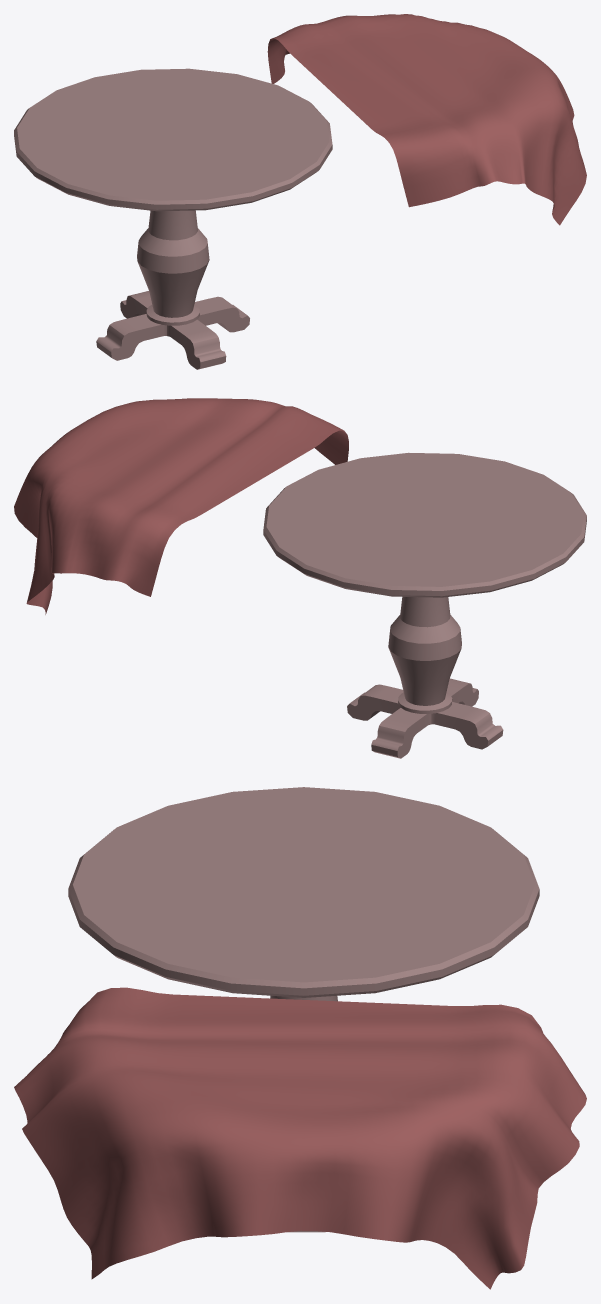
The model's file is mesh_tableround.fbx.
3 views of the same model, one above another, from view 1: azimuth 30°, elevation 25°; view 2: azimuth 150°, elevation 25°; view 3: azimuth 270°, elevation 25° (orthographic). The views are drawn at different scales.
Parts seen in each view (by area): view 1: table, polySurface17; view 2: table, polySurface17; view 3: polySurface17, table.
Part boxes in pixels (x1,y1,x2,y2): table: [14, 68, 332, 369]; polySurface17: [267, 14, 586, 225]; table: [263, 452, 586, 758]; polySurface17: [14, 398, 348, 614]; polySurface17: [14, 987, 586, 1289]; table: [68, 787, 539, 1232].
Bounding box in the file's own units: 2.46 × 0.9628 × 1.6.
